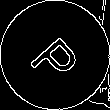P_NE: (24, 24, 86, 86)
